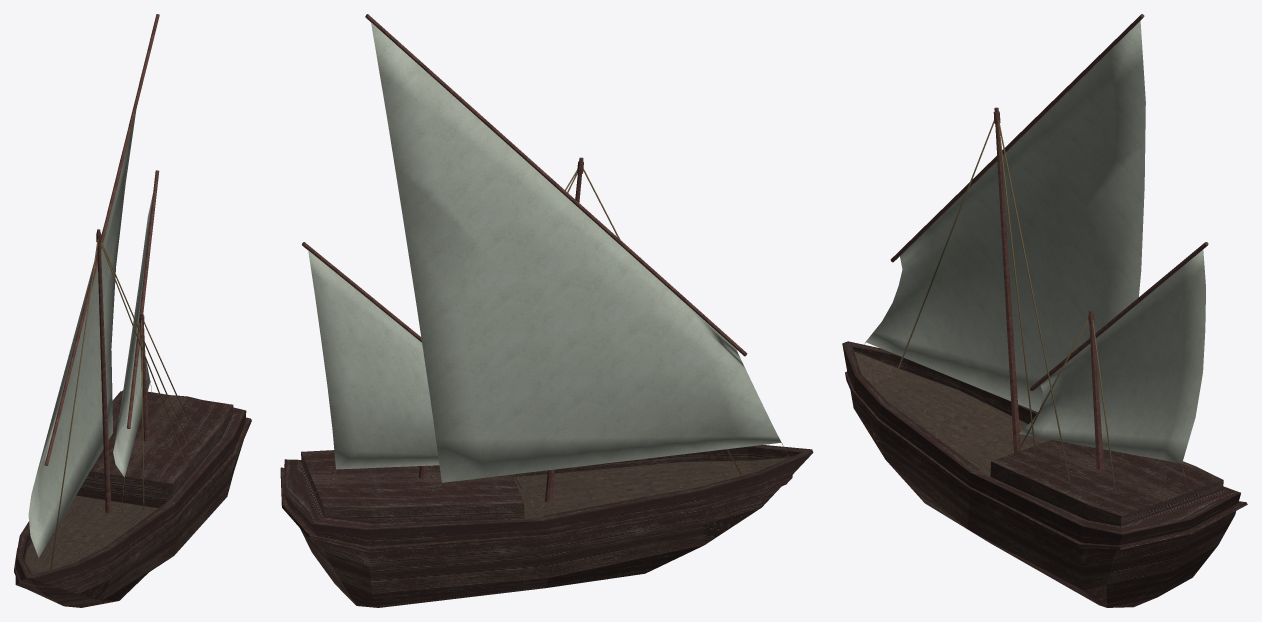
Rendered from dhow.glb.
3 renders of one model, left to right at view 1: azimuth 30°, elevation 25°; view 2: azimuth 150°, elevation 25°; view 3: azimuth 270°, elevation 25°, orthographic. The views are drawn at different scales.
Visible parts, largest first — view 1: Cube.007_badan dhow_0, Cube.007_layar dhow_0, Cube.007_worn wood dhow_0, Cube.007_lantai dhow_0, Cube.007_rope.002_0; view 2: Cube.007_layar dhow_0, Cube.007_badan dhow_0, Cube.007_lantai dhow_0, Cube.007_worn wood dhow_0; view 3: Cube.007_layar dhow_0, Cube.007_badan dhow_0, Cube.007_lantai dhow_0, Cube.007_worn wood dhow_0, Cube.007_rope.002_0.
Part boxes in pixels (bbox=[...]): Cube.007_badan dhow_0: bbox=[14, 390, 251, 607]; Cube.007_layar dhow_0: bbox=[28, 110, 152, 557]; Cube.007_worn wood dhow_0: bbox=[44, 14, 159, 513]; Cube.007_lantai dhow_0: bbox=[24, 495, 158, 574]; Cube.007_rope.002_0: bbox=[36, 239, 188, 573]; Cube.007_layar dhow_0: bbox=[308, 22, 781, 482]; Cube.007_badan dhow_0: bbox=[280, 445, 813, 607]; Cube.007_lantai dhow_0: bbox=[513, 457, 789, 518]; Cube.007_worn wood dhow_0: bbox=[302, 14, 747, 502]; Cube.007_layar dhow_0: bbox=[866, 21, 1205, 463]; Cube.007_badan dhow_0: bbox=[842, 341, 1247, 607]; Cube.007_lantai dhow_0: bbox=[854, 351, 1051, 476]; Cube.007_worn wood dhow_0: bbox=[890, 14, 1208, 469]; Cube.007_rope.002_0: bbox=[859, 120, 1187, 492].
Size of the model in its own units: 3.67 by 5.23 by 3.24.
5 materials, 5 textured.
